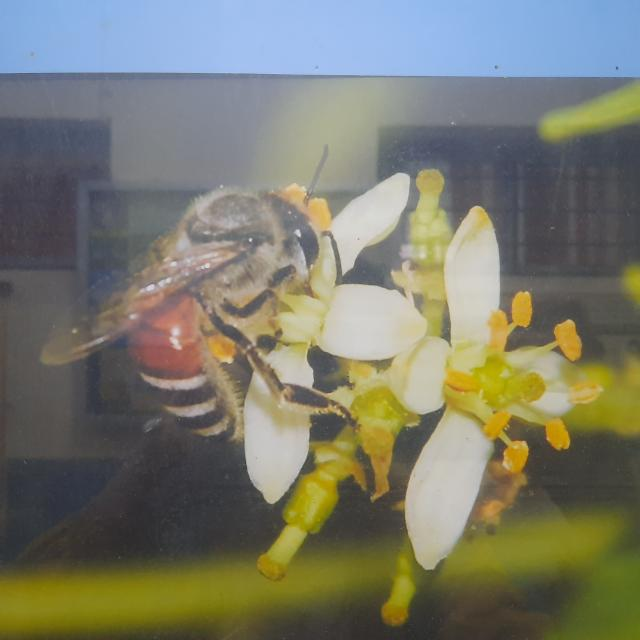honeybee: (56, 178, 340, 442)
